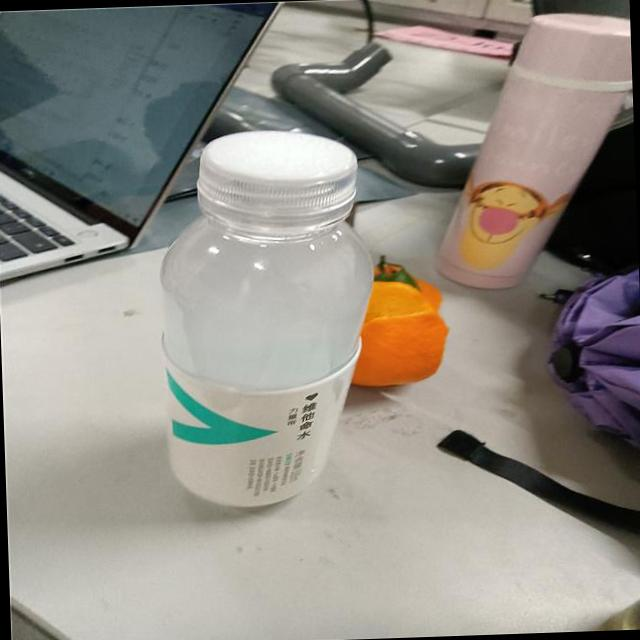orange-peel: (345, 262, 449, 389)
